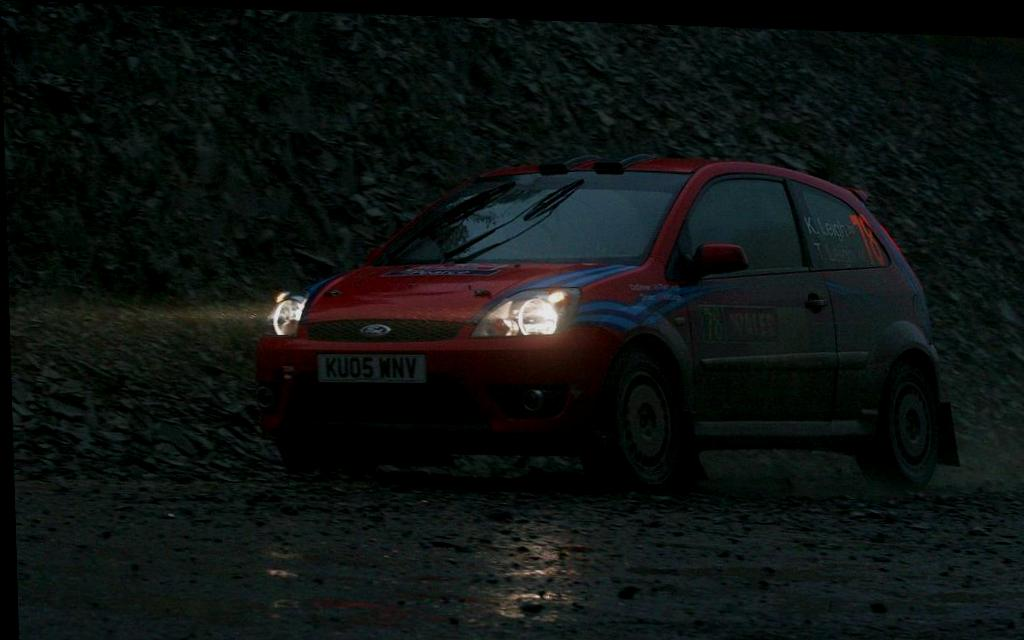License_Plate: (314, 346, 428, 390)
